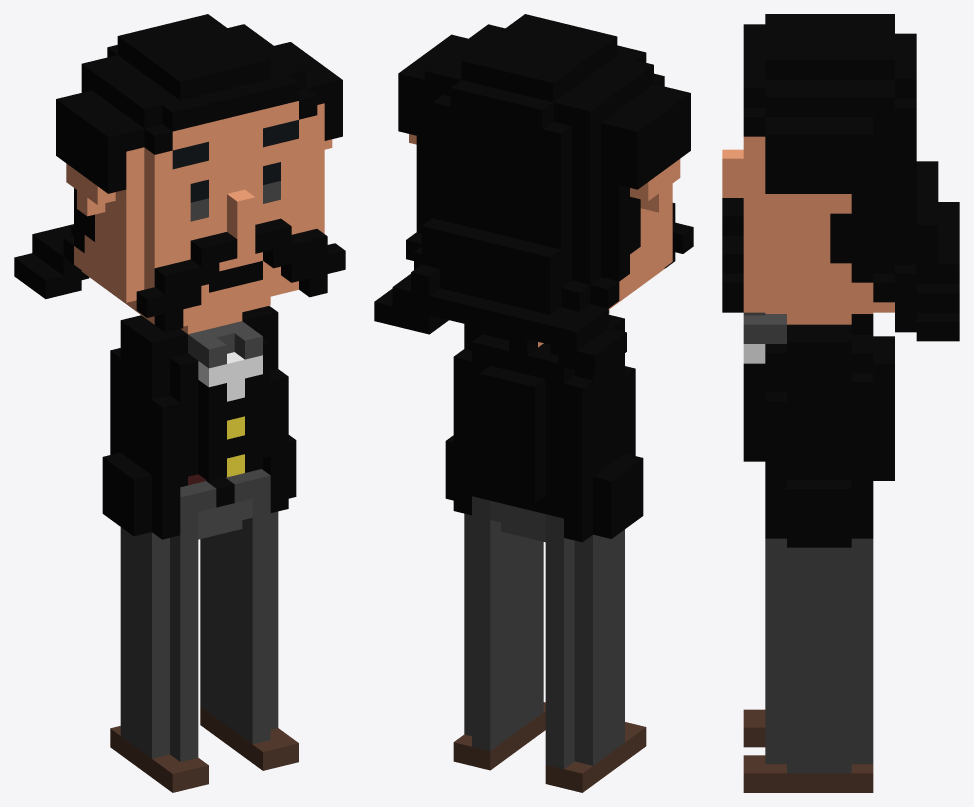
The model's file is umeyamadaichi-4.obj.
3 renders of one model, left to right at view 1: azimuth 30°, elevation 25°; view 2: azimuth 150°, elevation 25°; view 3: azimuth 270°, elevation 25°, orthographic. The views are drawn at different scales.
Size of the model in its own units: 1.3 by 3.7 by 1.1.
1 material, 1 textured.
